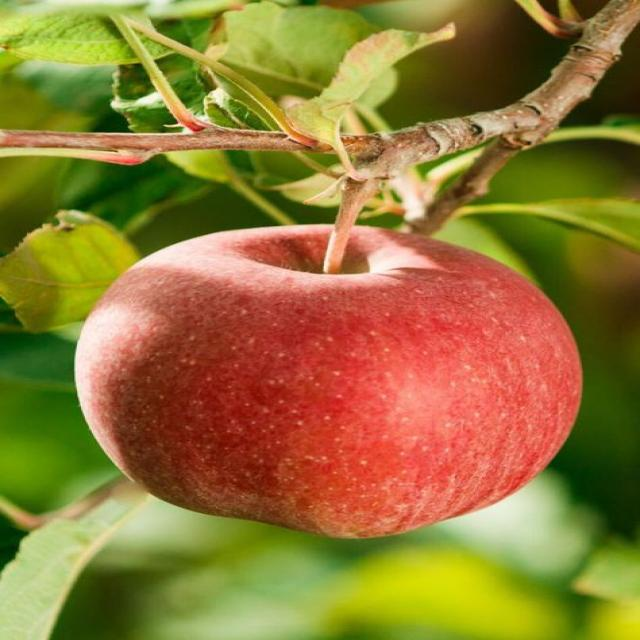Tao: (79, 203, 596, 543)
